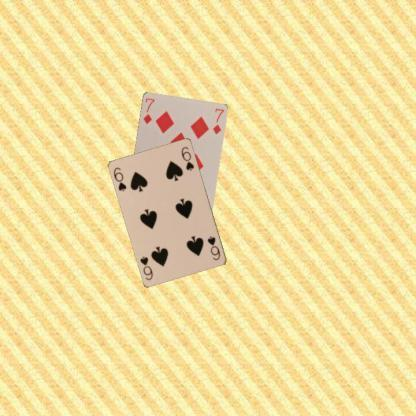6s: (111, 164, 128, 192), (205, 233, 221, 262)
7d: (140, 95, 156, 125)
